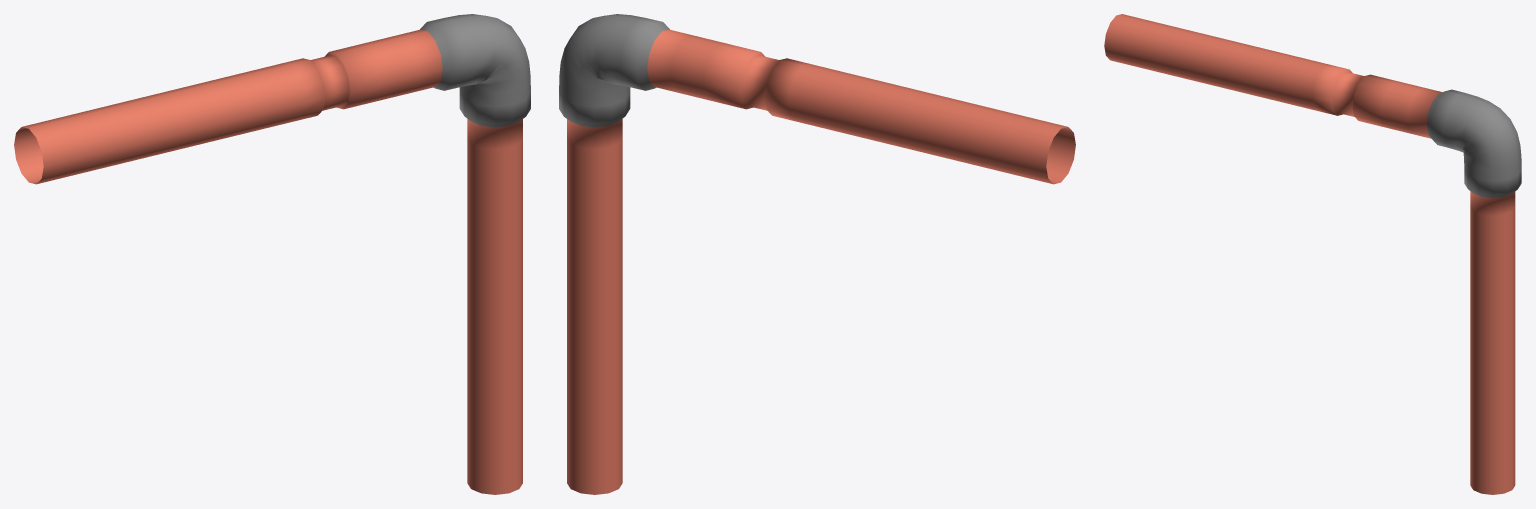
The model's file is sm_pipe.glb.
3 renders of one model, left to right at view 1: azimuth 30°, elevation 25°; view 2: azimuth 150°, elevation 25°; view 3: azimuth 330°, elevation 25°, orthographic. The views are drawn at different scales.
Parts seen in each view (by area): view 1: Pipe.001; view 2: Pipe.001; view 3: Pipe.001.
Boxes of the visible parts, bbox=[...] form: Pipe.001: bbox=[14, 14, 530, 494]; Pipe.001: bbox=[559, 14, 1075, 494]; Pipe.001: bbox=[1104, 14, 1521, 494].
Bounding box in the file's own units: 5.65 × 5.14 × 0.7.
